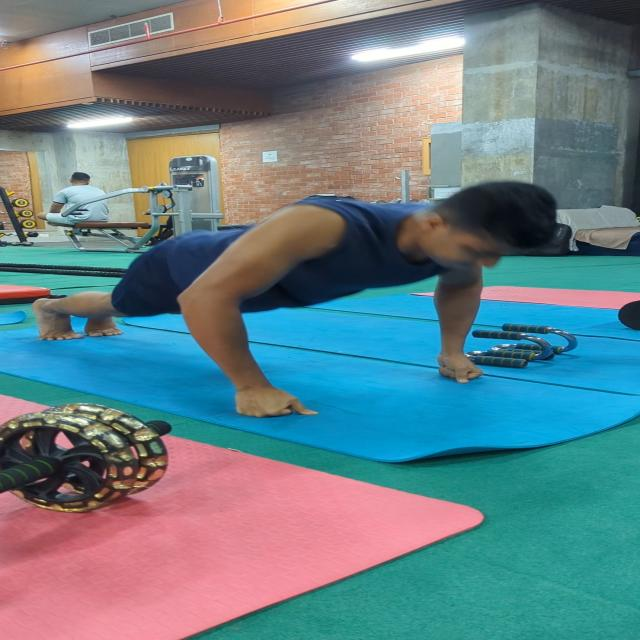Normal_PushUps: (30, 174, 569, 424)
